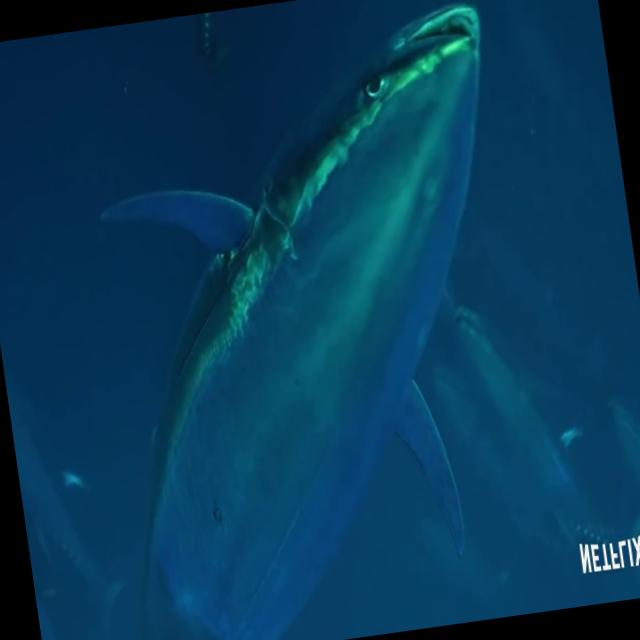fish: (73, 4, 563, 640)
